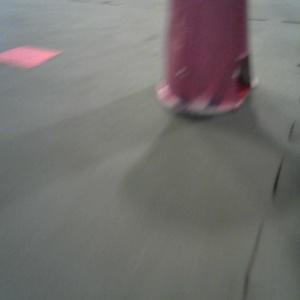right: (153, 1, 259, 114)
